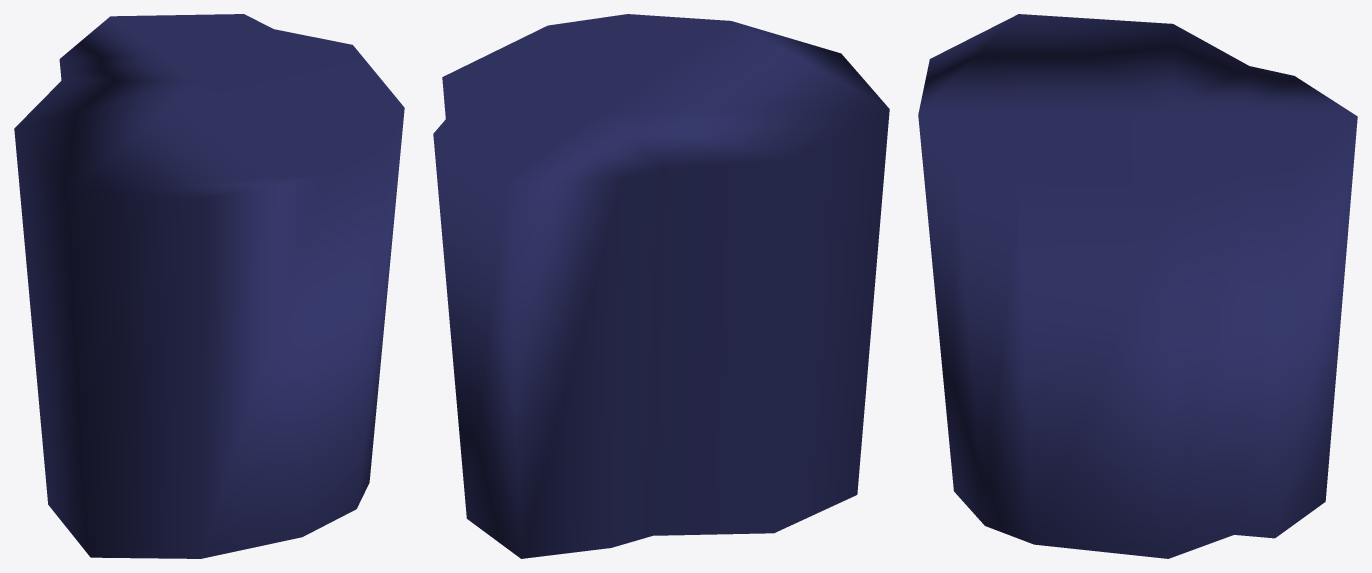
Rendered from platform1_LOD1.fbx.
3 views of the same model, side by side, from view 1: azimuth 30°, elevation 25°; view 2: azimuth 150°, elevation 25°; view 3: azimuth 270°, elevation 25° (orthographic). The views are drawn at different scales.
Visible parts, largest first — view 1: platform1; view 2: platform1; view 3: platform1.
Boxes of the visible parts, x1,y1,x2,y2 form: platform1: (14,14,404,558); platform1: (433,14,889,558); platform1: (918,14,1357,558).
Size of the model in its own units: 408 by 420 by 426.
